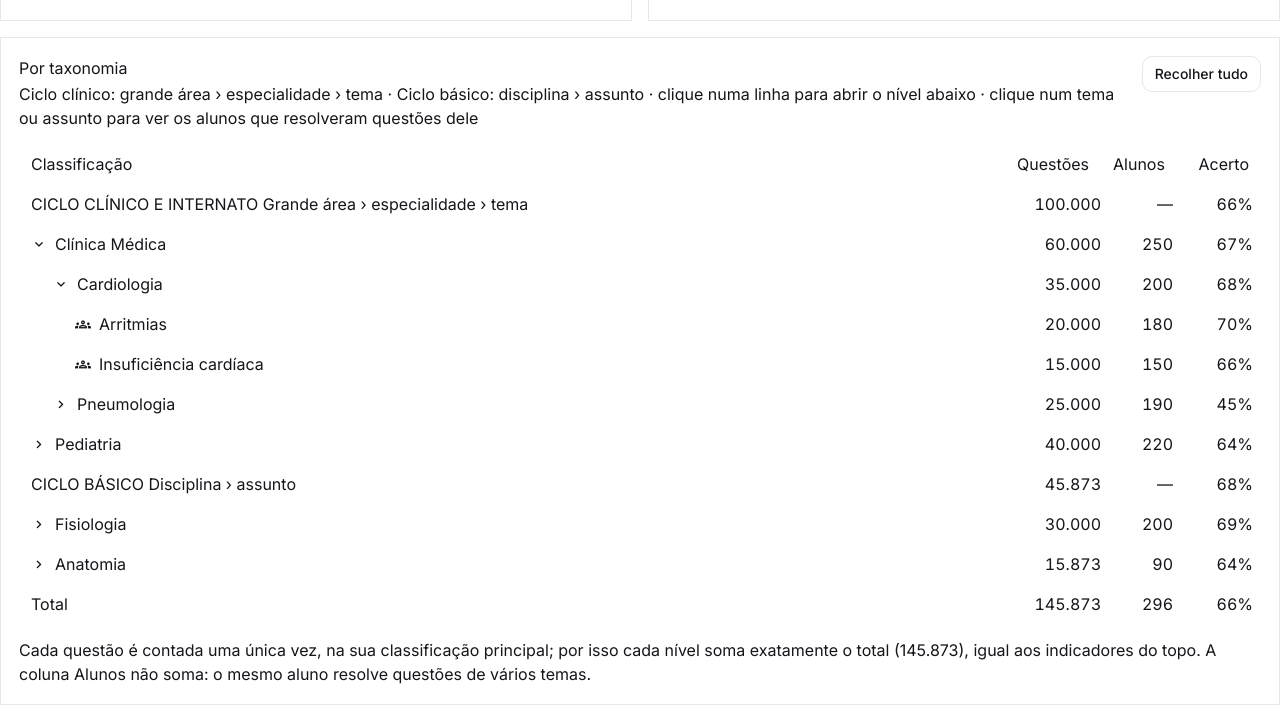
Test case: acessibilidade — Engajamento: as três abas (spec §15.2) › Questões com o pop-up de alunos do tema aberto: sem violações de axe
The width and height of the screenshot is (1280, 705).
(page scrolled)
Step 1. Click the button with aria-label "Ver alunos do tema Arritmias" → (121, 324), box [75, 312, 167, 336]
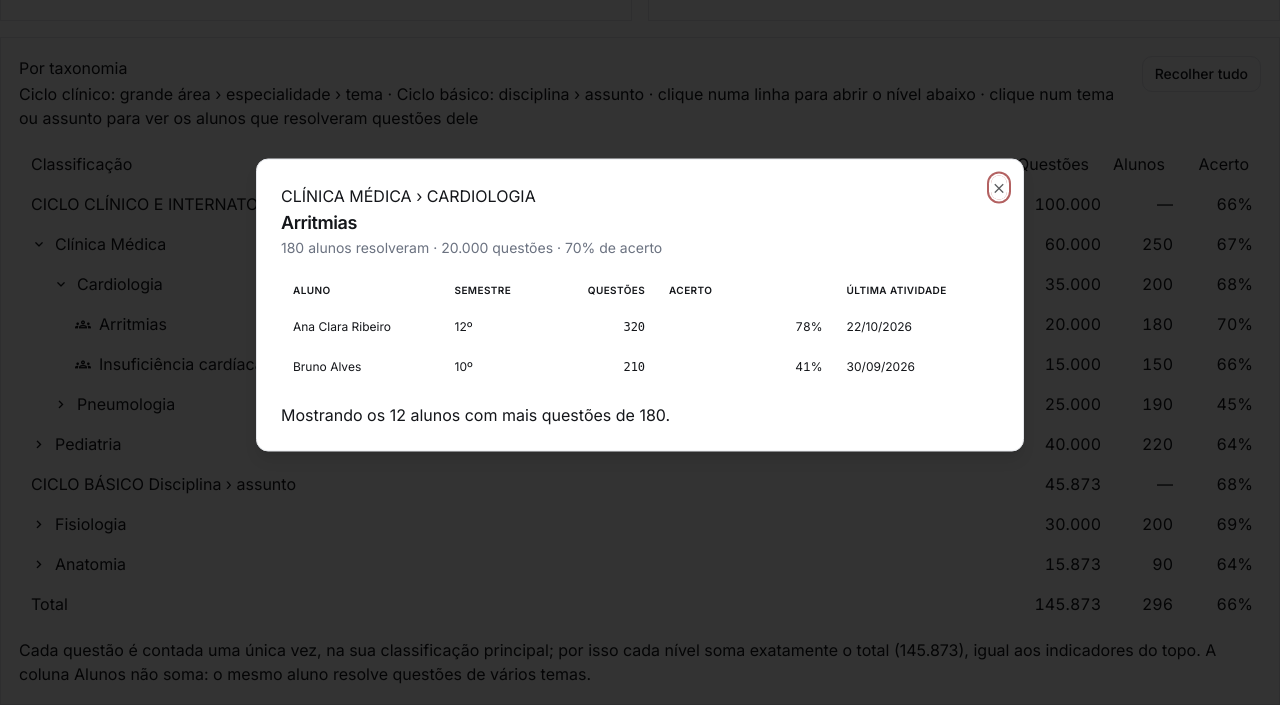
Expected: the dialog is shown, [256, 158, 1024, 452]
